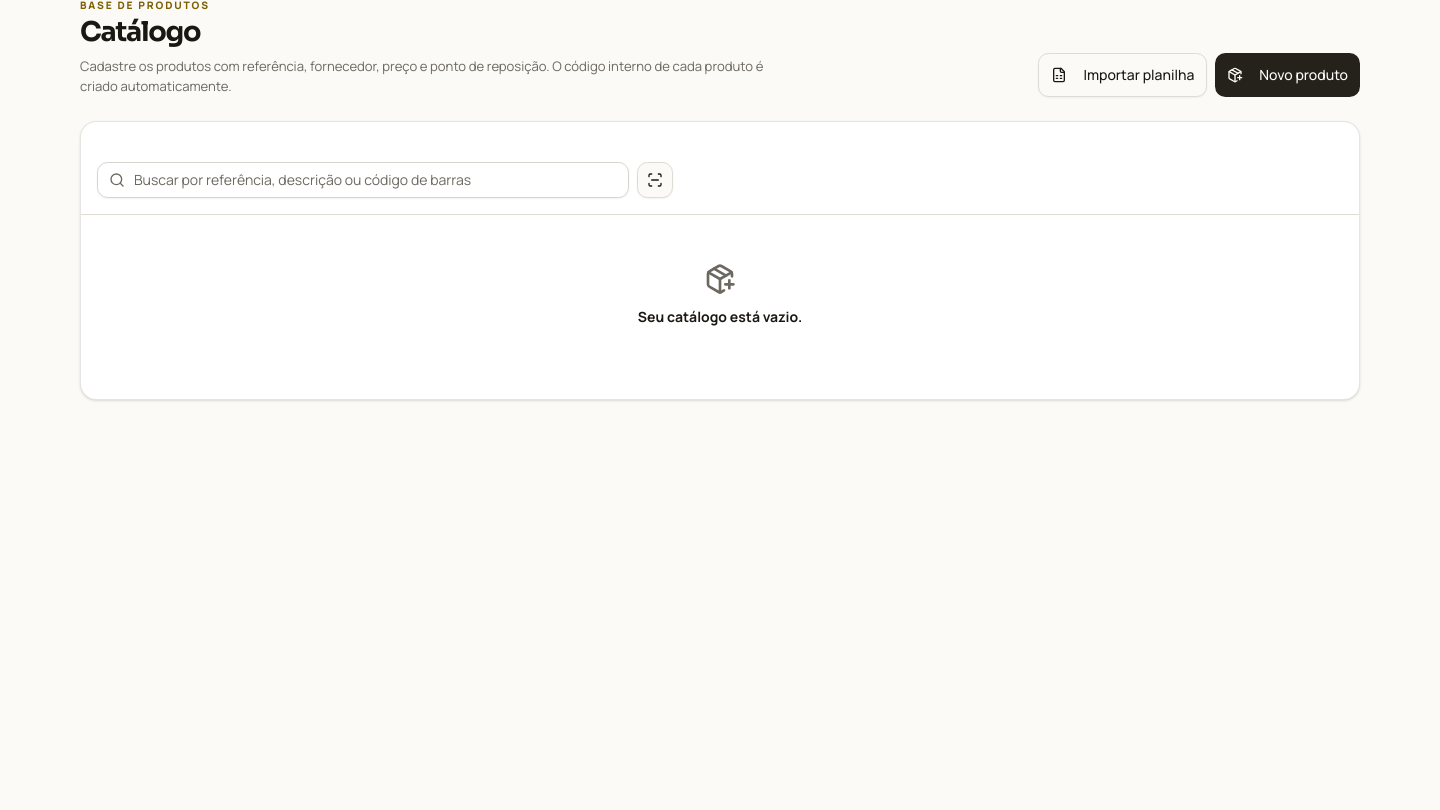
Scenario: ProductsPage › nomeia os controles do cadastro de produto
Click the button "Novo produto".
click(1288, 75)  # box [1215,53,1360,97]
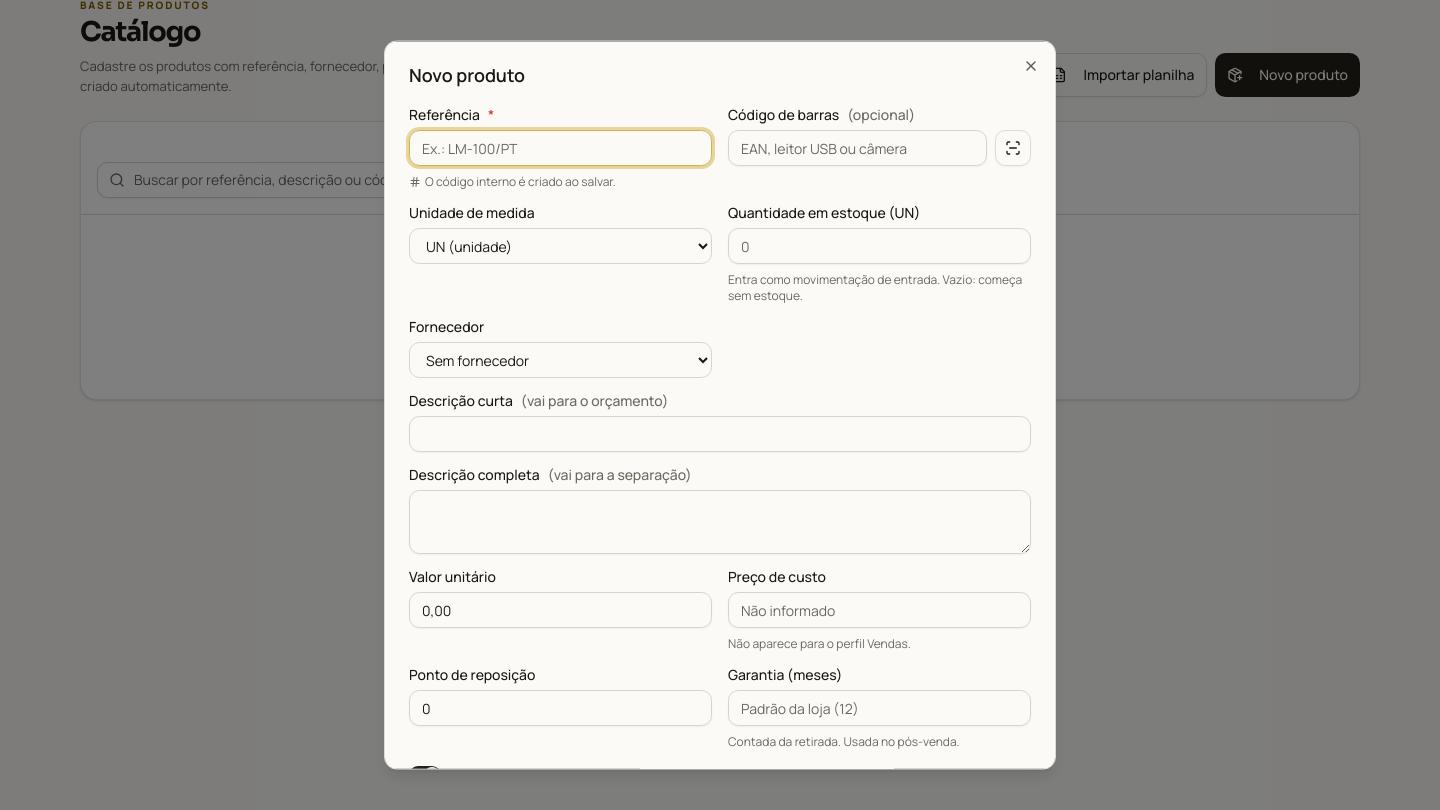
Now the dropdown labelled "Unidade" is shown, box [409,228,712,264]
Now the field named "Descrição curta (vai para o orçamento)" is shown, box [409,416,1031,452]
